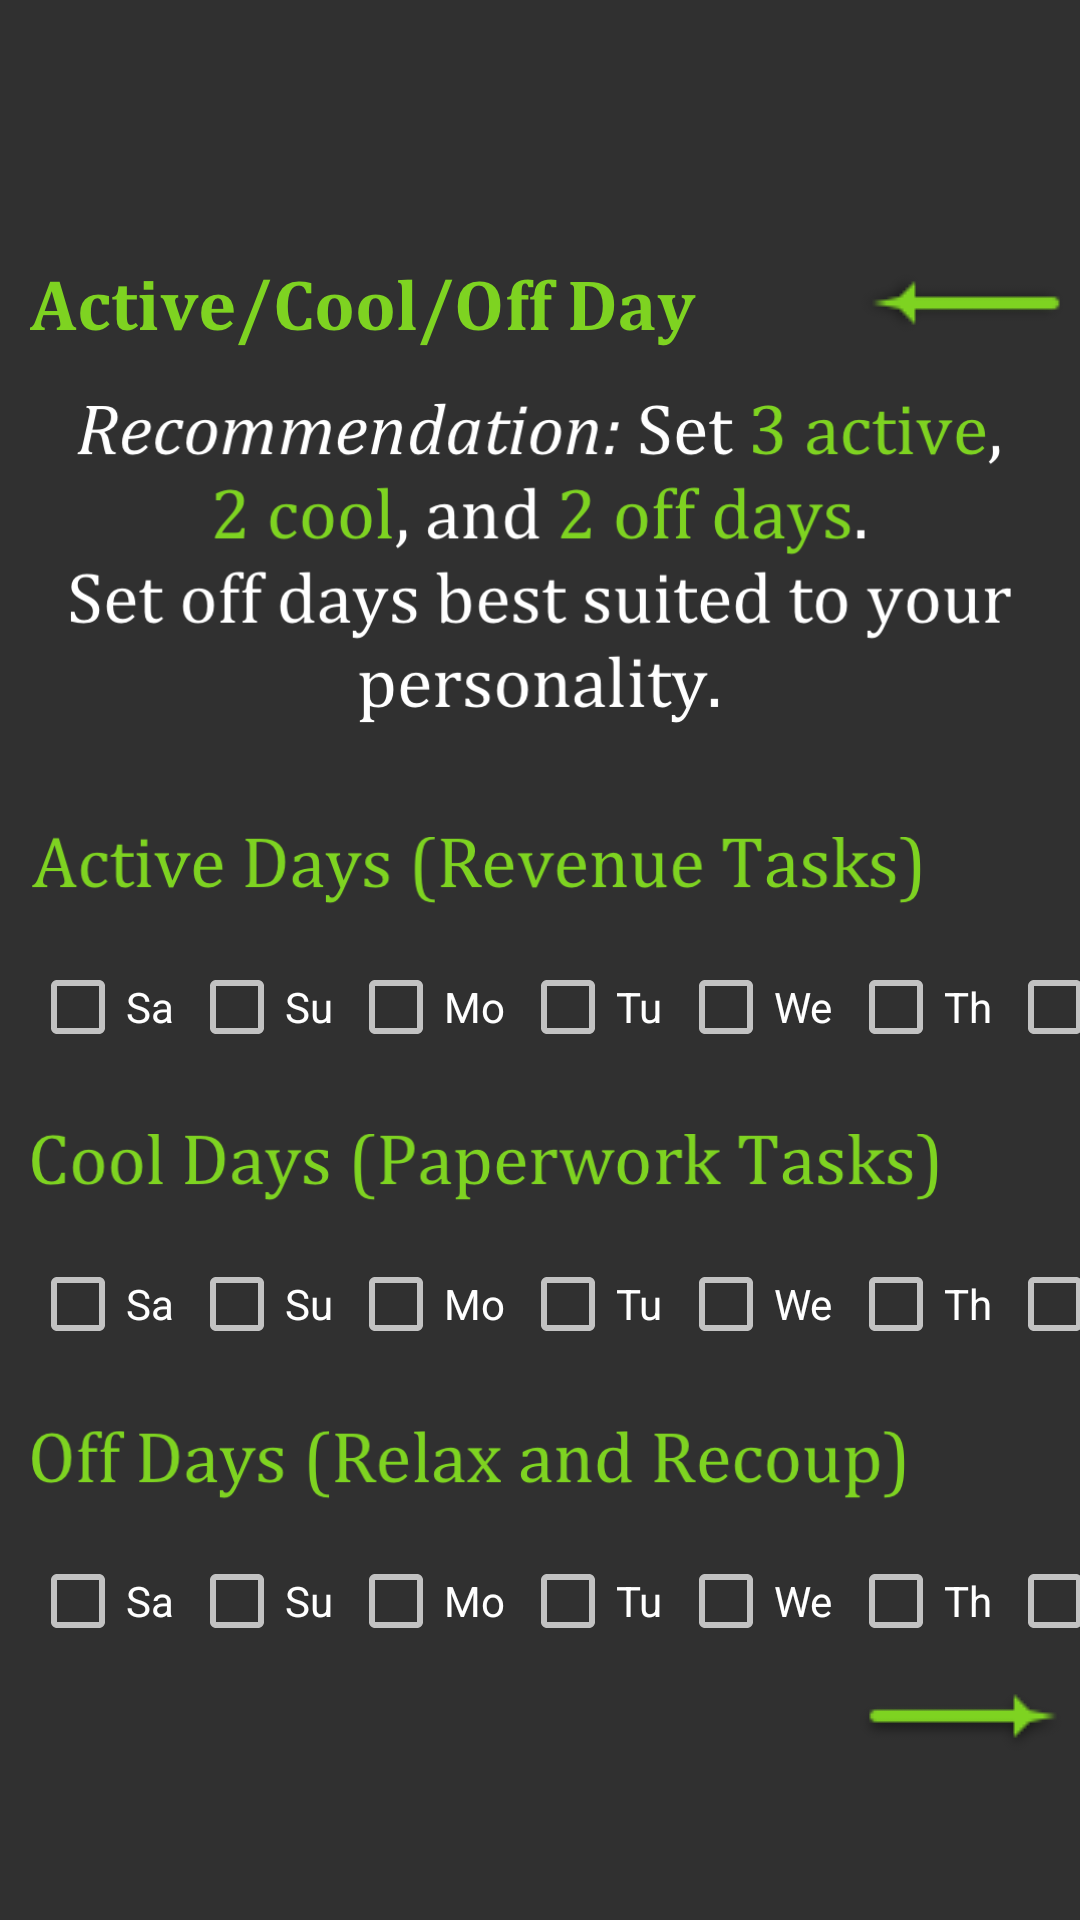

Screen size 1080×1920. Icon name, then its center in pixels as point (x, y):
next page: point (961, 1715)
